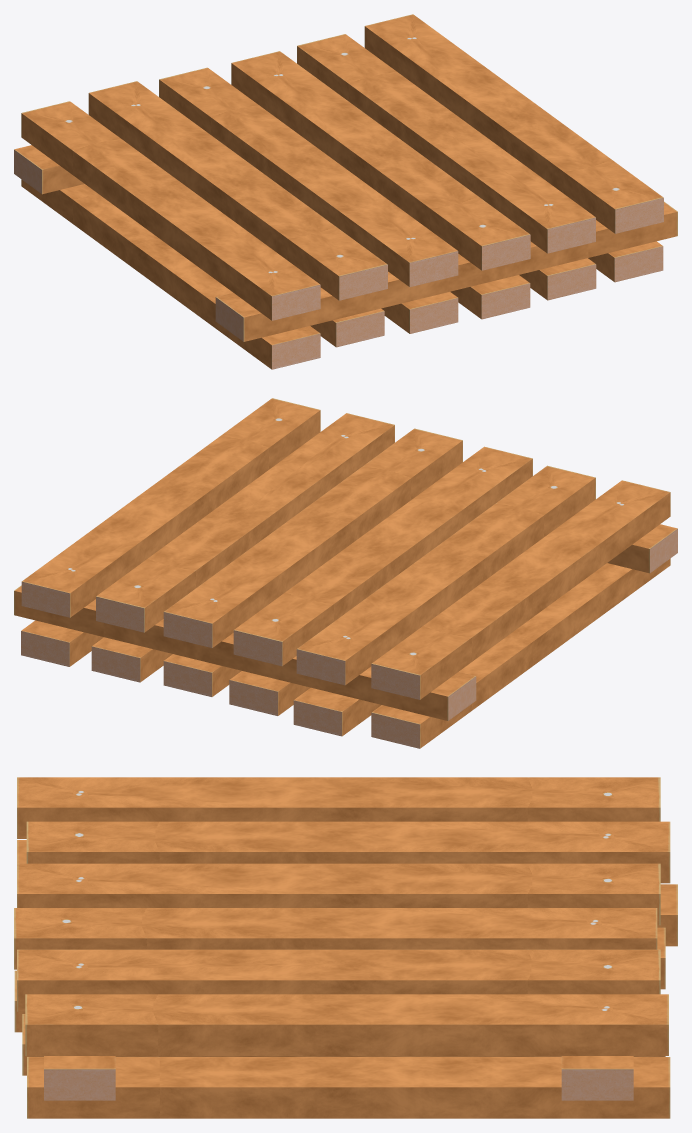
The model's file is BrokenPallet_1.fbx.
3 renders of one model, top to bottom at view 1: azimuth 30°, elevation 25°; view 2: azimuth 150°, elevation 25°; view 3: azimuth 270°, elevation 25°, orthographic. The views are drawn at different scales.
Visible parts, largest first — view 1: PalletCube_8, PalletCube_7; view 2: PalletCube_7, PalletCube_8; view 3: PalletCube_8, PalletCube_7.
Boxes of the visible parts, bbox=[...] form: PalletCube_8: bbox=[162, 83, 677, 369]; PalletCube_7: bbox=[14, 14, 506, 288]; PalletCube_7: bbox=[14, 512, 560, 748]; PalletCube_8: bbox=[116, 398, 677, 645]; PalletCube_8: bbox=[14, 777, 431, 1118]; PalletCube_7: bbox=[298, 777, 677, 1118].
Size of the model in its own units: 0.9842 by 0.1588 by 1.02.
